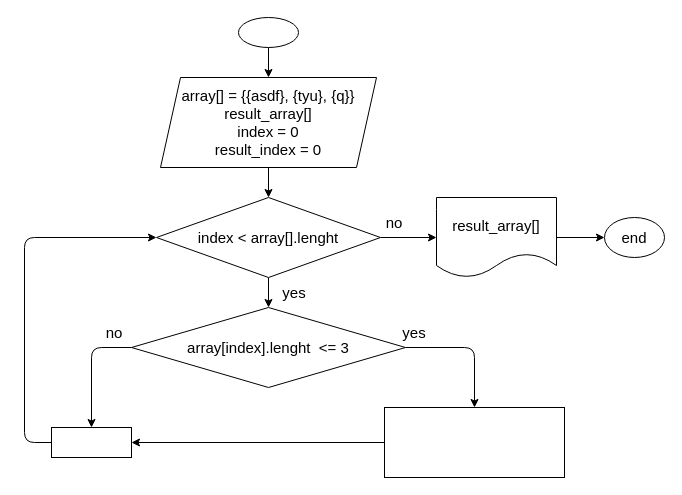
Some shapes in this 682 by 495 pixel diagram are drawn without their labels. The centre of each missing label's shape, as x and y in pixels:
index++: the point at 91,442
result_array[result_index] = array[index]; result_index++: the point at 474,442
start: the point at 268,32
